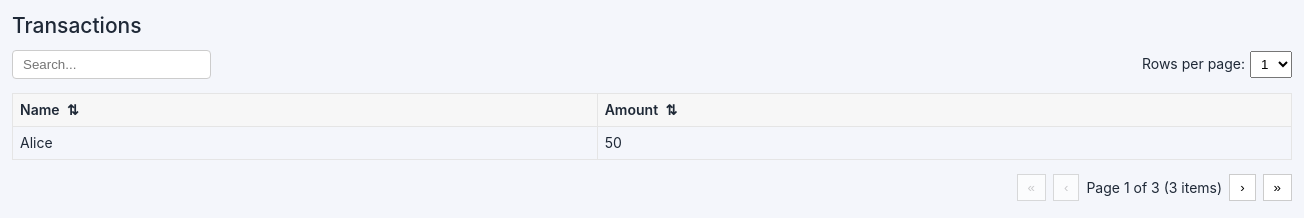
Table › navigates to the next page when the next button is clicked
Click the button "›": x=1242, y=188 [1229,174,1256,201]
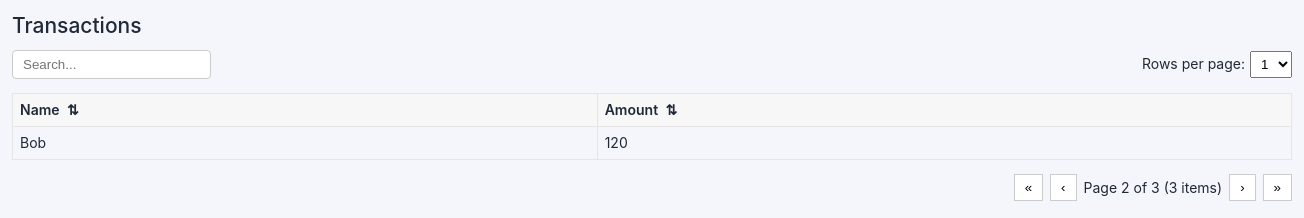
expect the text "Page 2 of 3 (3 items)" is shown: met, box [1084,179,1222,197]
